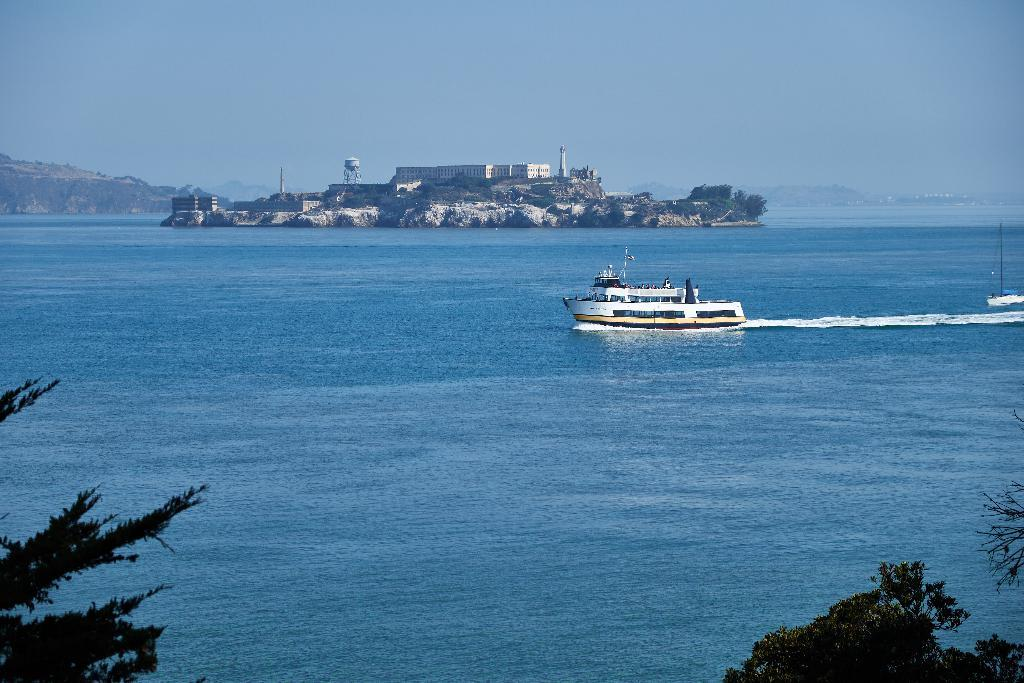PassengerShip: (562, 243, 750, 335)
